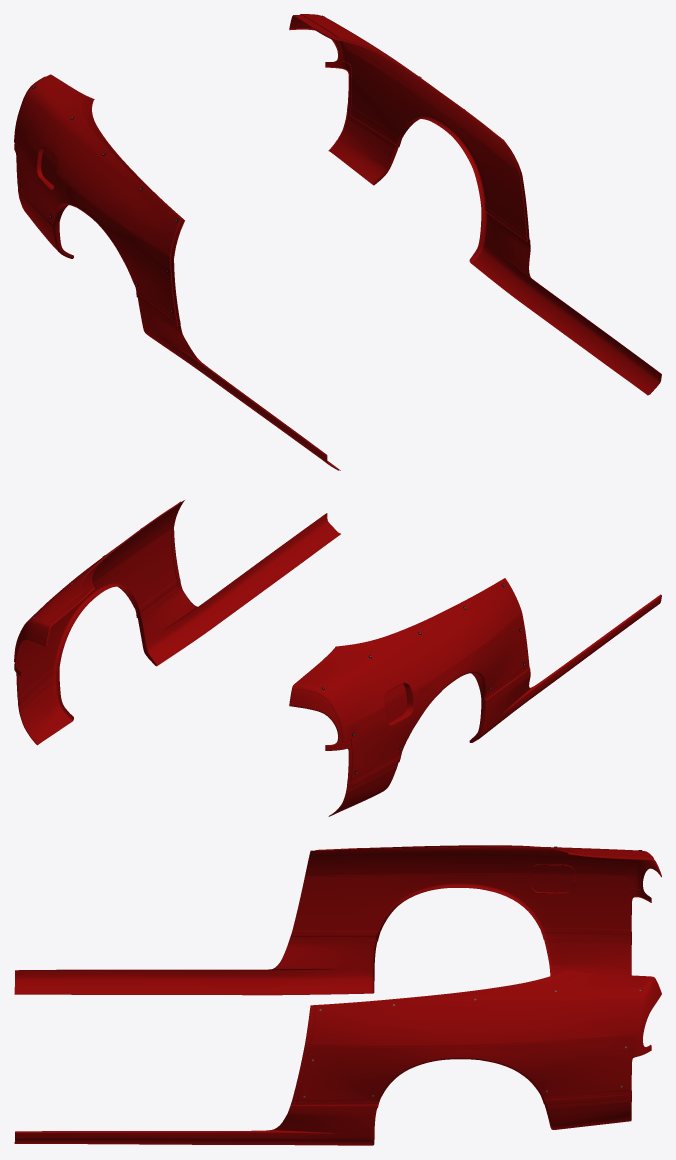
The model's file is rearfenders_originlabofujin.glb.
The picture shows the model from 3 angles, top to bottom: view 1: azimuth 30°, elevation 25°; view 2: azimuth 150°, elevation 25°; view 3: azimuth 270°, elevation 25°; orthographic projection.
Parts seen in each view (by area): view 1: Fenders, Extensions; view 2: Fenders, Extensions; view 3: Fenders, Extensions.
Boxes of the visible parts, left/top/right/bottom form: Fenders: left=14, top=15, right=661, bottom=470; Extensions: left=14, top=14, right=527, bottom=327; Fenders: left=14, top=500, right=661, bottom=816; Extensions: left=14, top=501, right=528, bottom=787; Fenders: left=14, top=845, right=661, bottom=1145; Extensions: left=295, top=846, right=653, bottom=1109.
Size of the model in its own units: 1.78 by 0.7374 by 2.73.
